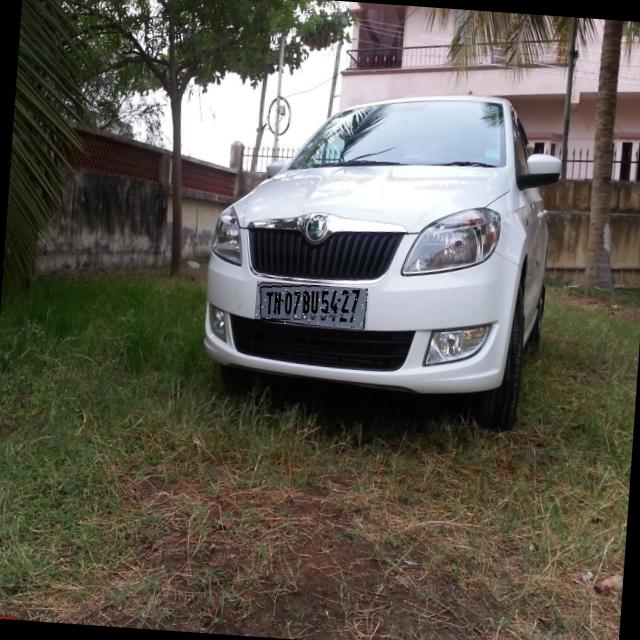Plate: (255, 282, 369, 330)
